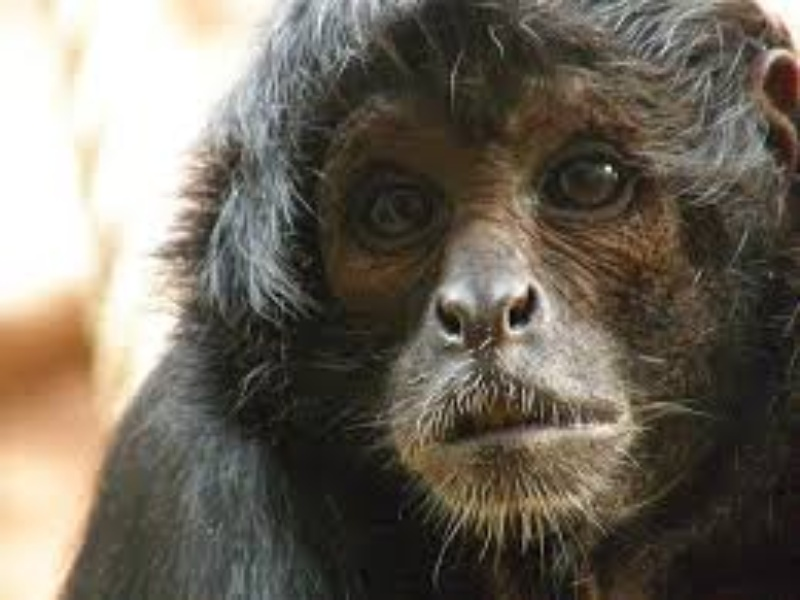monkey: (129, 3, 781, 589)
